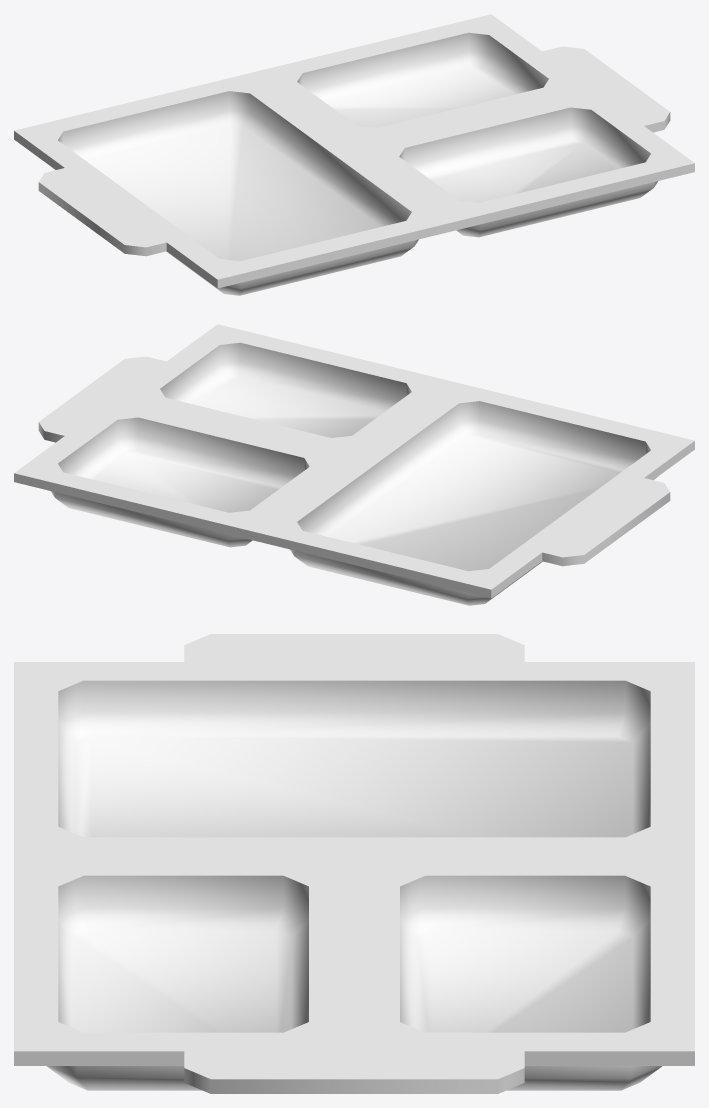
Rendered from Tool_Tray.fbx.
3 renders of one model, top to bottom at view 1: azimuth 30°, elevation 25°; view 2: azimuth 150°, elevation 25°; view 3: azimuth 270°, elevation 25°, orthographic. The views are drawn at different scales.
Parts seen in each view (by area): view 1: Tool_Tray; view 2: Tool_Tray; view 3: Tool_Tray.
Boxes of the visible parts, x1=… form: Tool_Tray: x1=14, y1=14, x2=694, y2=295; Tool_Tray: x1=14, y1=324, x2=694, y2=605; Tool_Tray: x1=14, y1=634, x2=694, y2=1093.
Bounding box in the file's own units: 0.6466 × 0.0424 × 0.4181.
